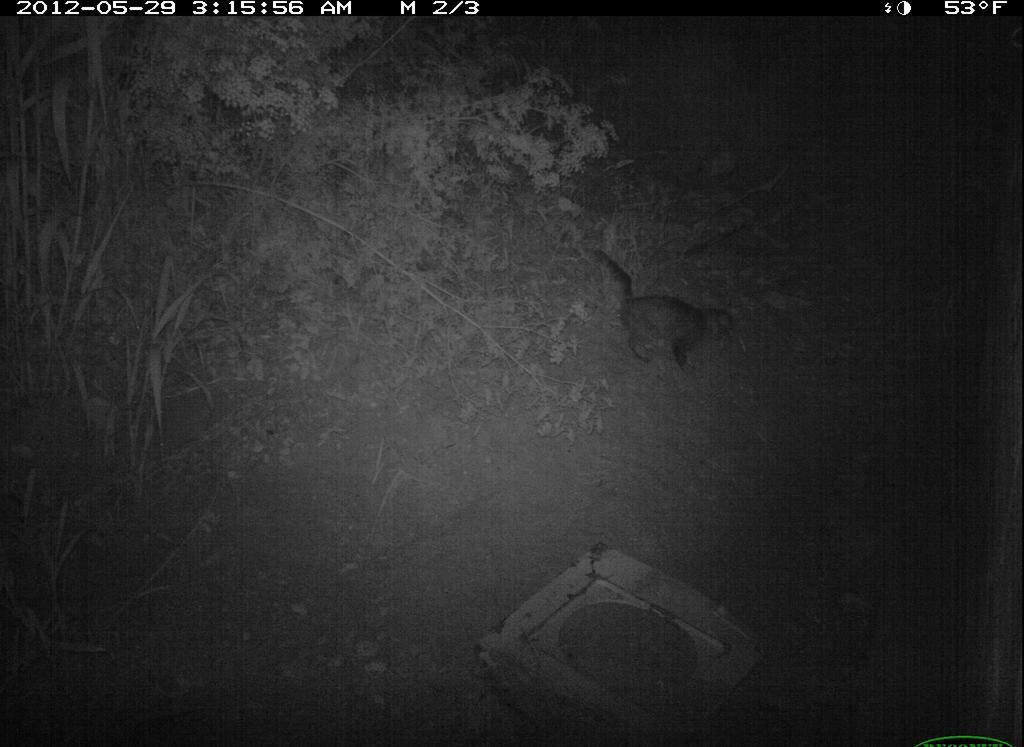cat: (584, 235, 752, 382)
